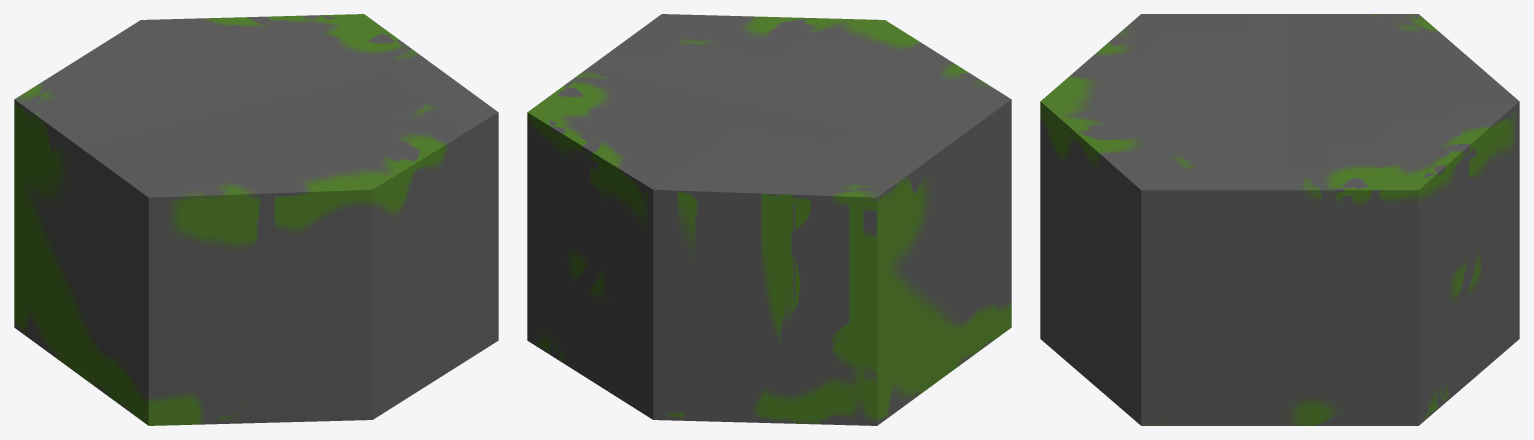
File: tile_rock_2.gltf
3 views of the same model, side by side, from view 1: azimuth 30°, elevation 25°; view 2: azimuth 150°, elevation 25°; view 3: azimuth 270°, elevation 25° (orthographic). The views are drawn at different scales.
Visible parts, largest first — view 1: roche_1; view 2: roche_1; view 3: roche_1.
Part boxes in pixels (bbox=[...]): roche_1: bbox=[14, 14, 498, 425]; roche_1: bbox=[527, 14, 1011, 425]; roche_1: bbox=[1040, 14, 1519, 425].
Size of the model in its own units: 1.6 by 1.01 by 1.84.
1 material, 1 textured.
